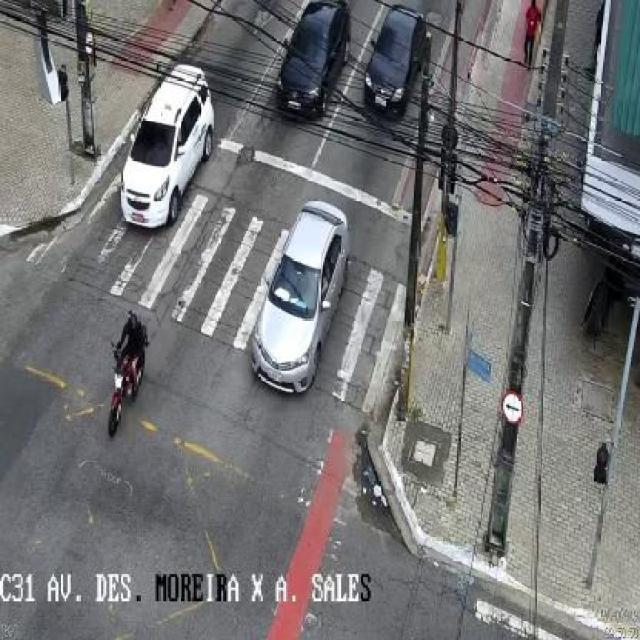Car: (246, 197, 356, 398), (280, 1, 350, 124), (362, 5, 420, 121)
Cycle: (108, 306, 150, 426)
Van: (120, 61, 220, 236)
